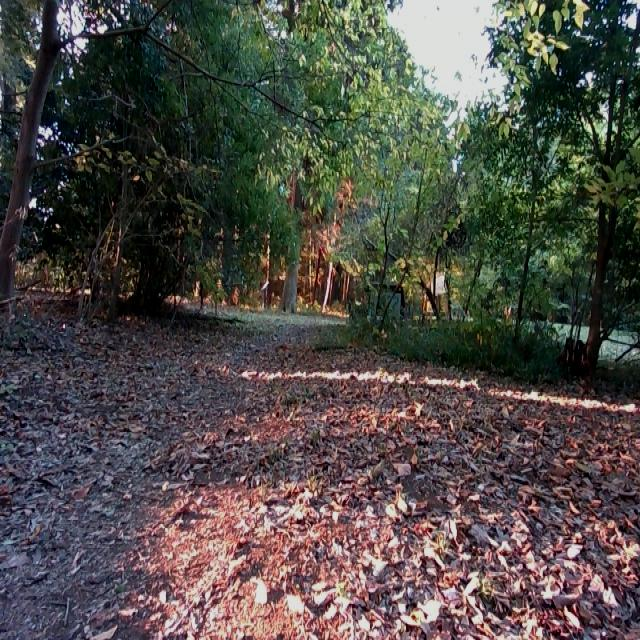bush: (338, 284, 568, 381)
tree: (0, 0, 87, 336), (566, 0, 640, 387)
